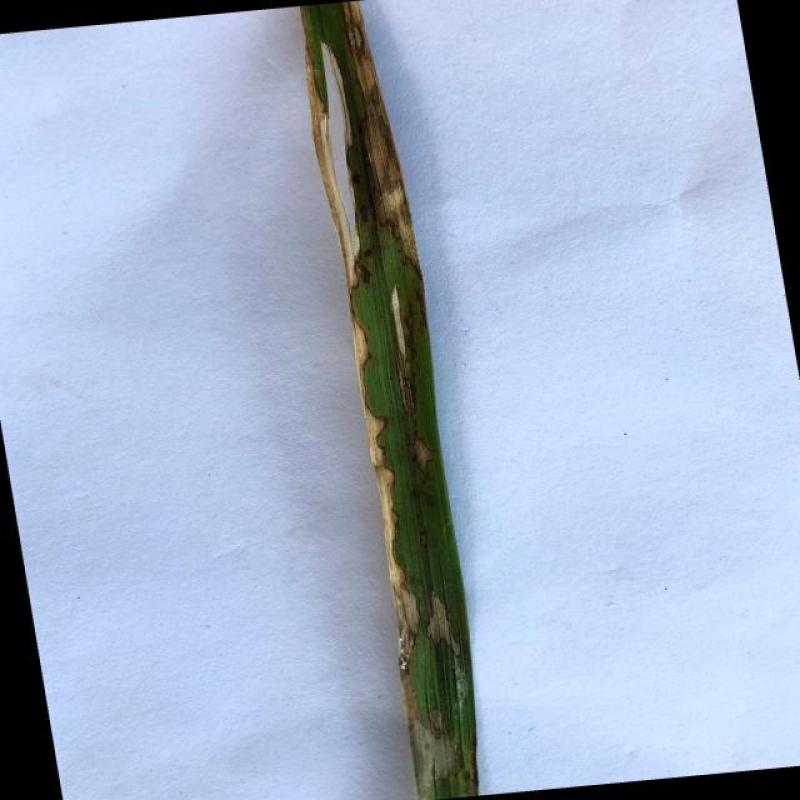Bacterial_Leaf_Blight: (341, 0, 424, 256), (361, 405, 424, 670), (298, 71, 364, 288), (412, 700, 478, 800), (386, 286, 418, 362), (431, 594, 462, 658), (352, 305, 372, 379)
